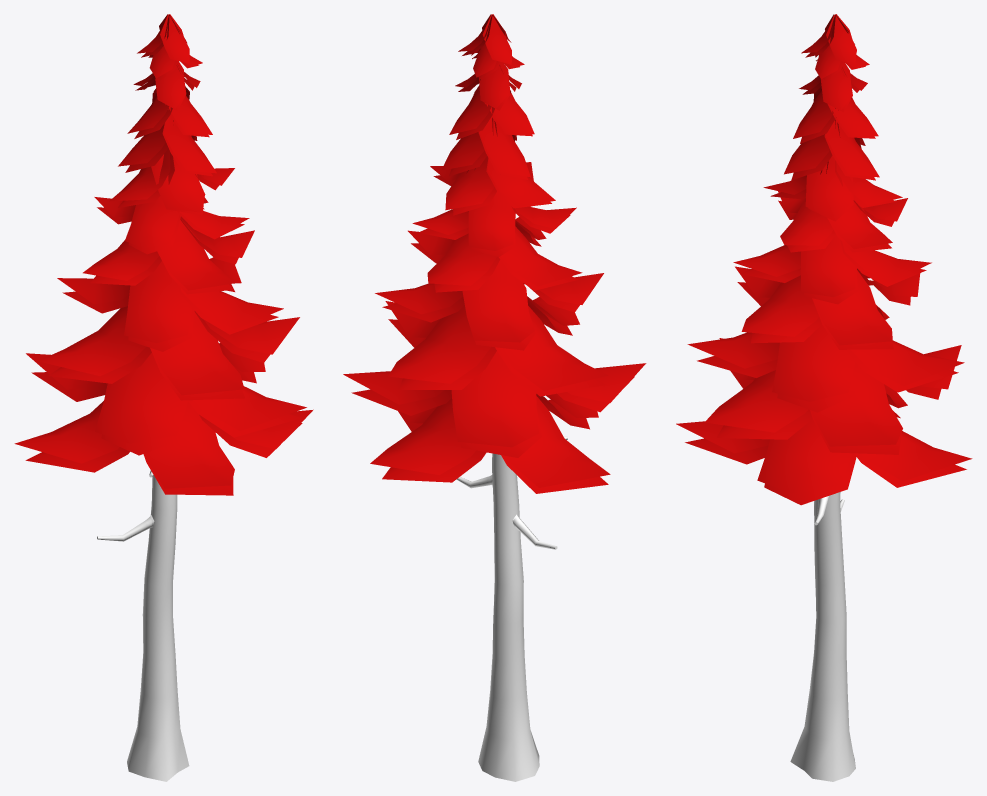
The model's file is SM_tree_05.FBX.
The picture shows the model from 3 angles, left to right: view 1: azimuth 30°, elevation 25°; view 2: azimuth 150°, elevation 25°; view 3: azimuth 270°, elevation 25°; orthographic projection.
Parts seen in each view (by area): view 1: SM_tree_05_LOD0; view 2: SM_tree_05_LOD0; view 3: SM_tree_05_LOD0.
Boxes of the visible parts, bbox=[...] form: SM_tree_05_LOD0: bbox=[14, 14, 313, 781]; SM_tree_05_LOD0: bbox=[343, 14, 646, 781]; SM_tree_05_LOD0: bbox=[676, 14, 972, 781].
Size of what is drawn, in the model's own units: 889 by 866 by 2444.
